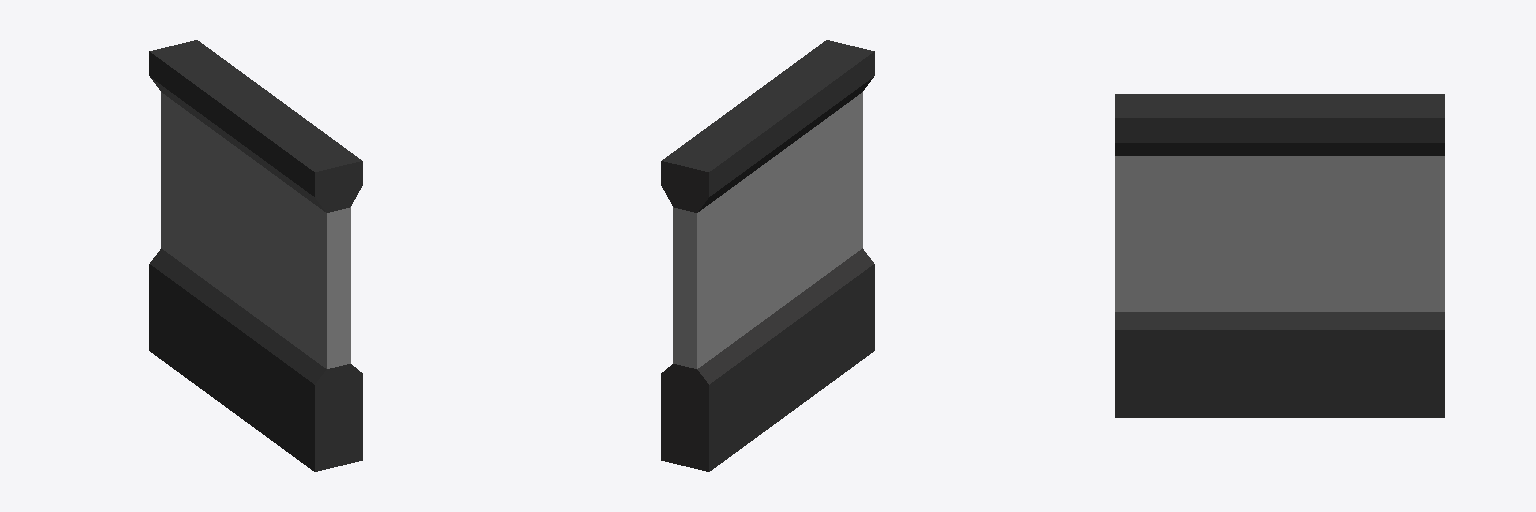
The model's file is Quart_Wall_snaps002.obj.
The picture shows the model from 3 angles: view 1: azimuth 30°, elevation 25°; view 2: azimuth 150°, elevation 25°; view 3: azimuth 270°, elevation 25°; orthographic projection.
Parts seen in each view (by area): view 1: Quart_Wall_snaps002; view 2: Quart_Wall_snaps002; view 3: Quart_Wall_snaps002.
Part boxes in pixels (x1,y1,x2,y2): Quart_Wall_snaps002: (149, 40, 362, 471); Quart_Wall_snaps002: (661, 40, 874, 471); Quart_Wall_snaps002: (1115, 94, 1444, 417).
Bounding box in the file's own units: 0.5 × 3 × 3.